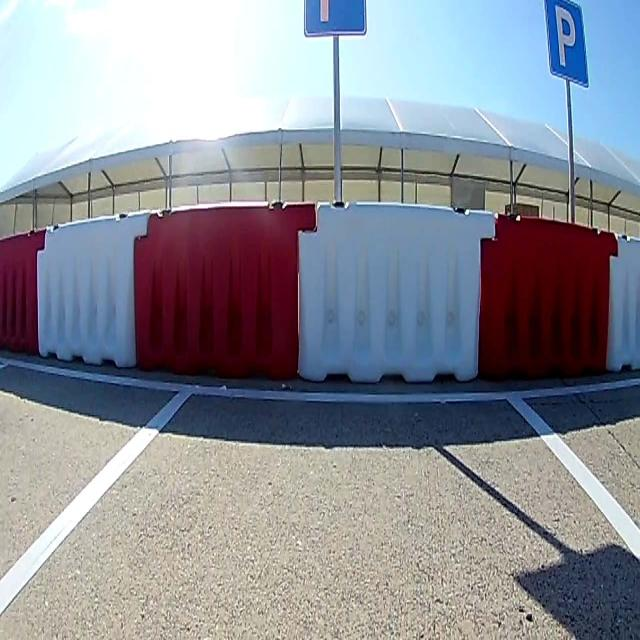park: (544, 0, 586, 85)
